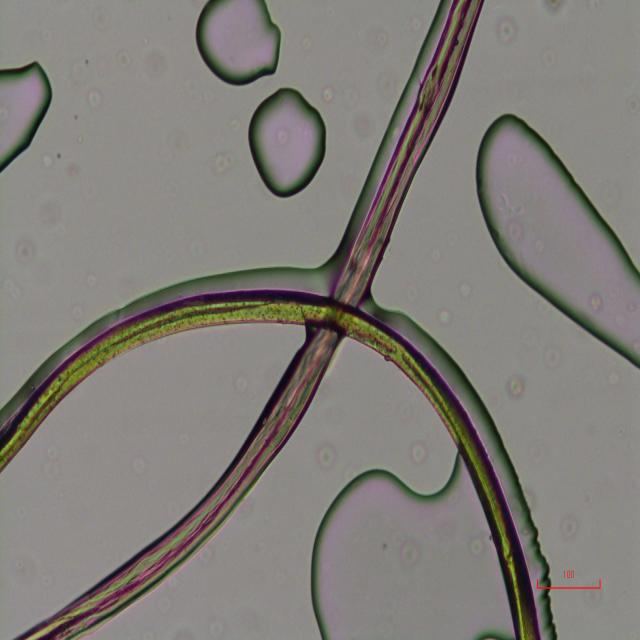Air bubble: (475, 112, 640, 366), (302, 445, 508, 638), (251, 84, 329, 200), (196, 1, 284, 84), (0, 59, 54, 178)
Background material: (314, 440, 338, 472), (497, 16, 519, 47), (407, 441, 431, 465), (559, 517, 581, 543), (585, 292, 608, 316), (542, 346, 565, 369), (507, 376, 527, 400), (439, 307, 452, 327)
Microfibre: (19, 0, 484, 639), (0, 289, 540, 639)
